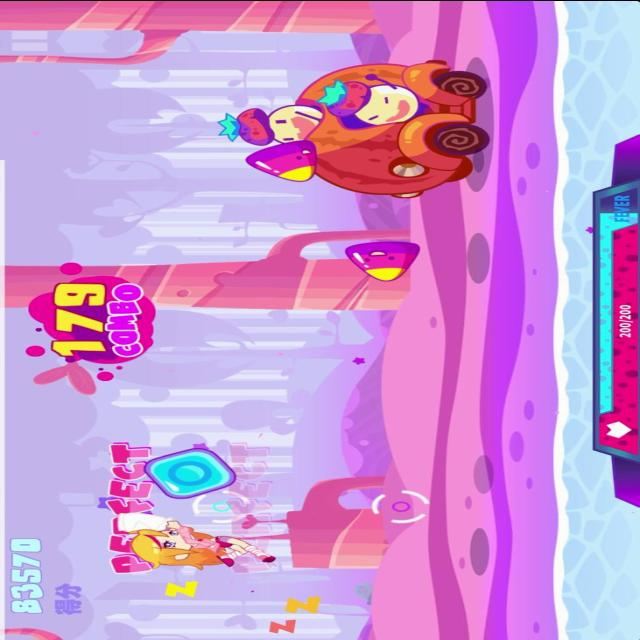cheboss: (213, 54, 497, 202)
jian: (338, 237, 426, 283), (240, 136, 322, 182)
kuai: (138, 444, 242, 502)
